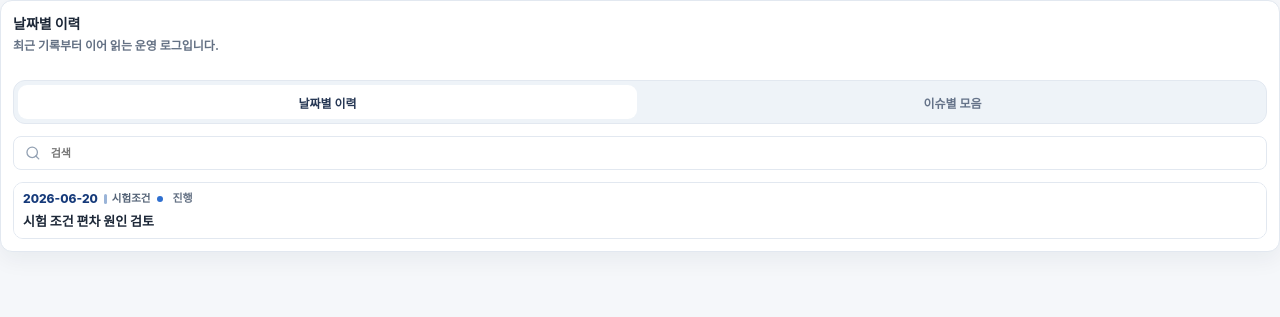
HistoryList › uses latest detail issue owner information in issue grouped rows
This screenshot has width=1280, height=317.
Step 1. Click the button "이슈별 모음" → (952, 102), box [643,85,1262,119]
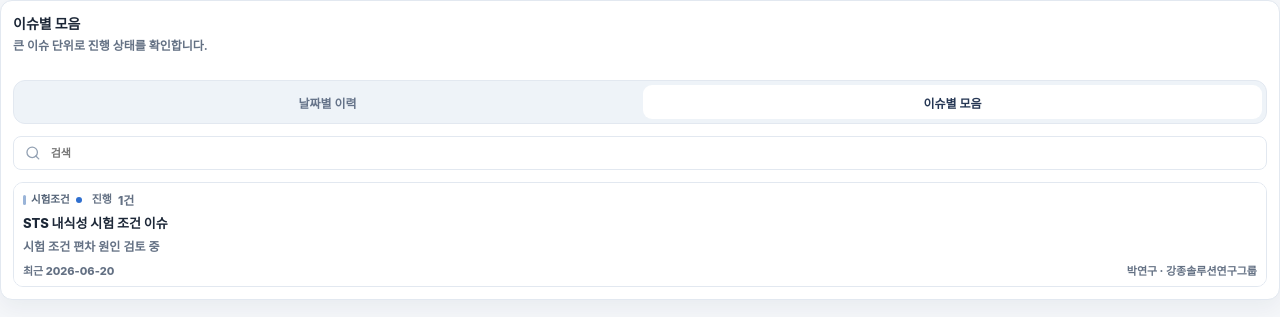
Expected: the text "박연구 · 강종솔루션연구그룹" is shown, [1127,262,1257,278]
